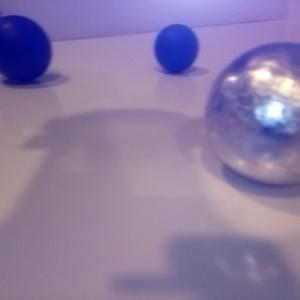alive_ball: (205, 42, 300, 186)
dead_ball: (1, 15, 53, 82), (154, 24, 200, 75)
